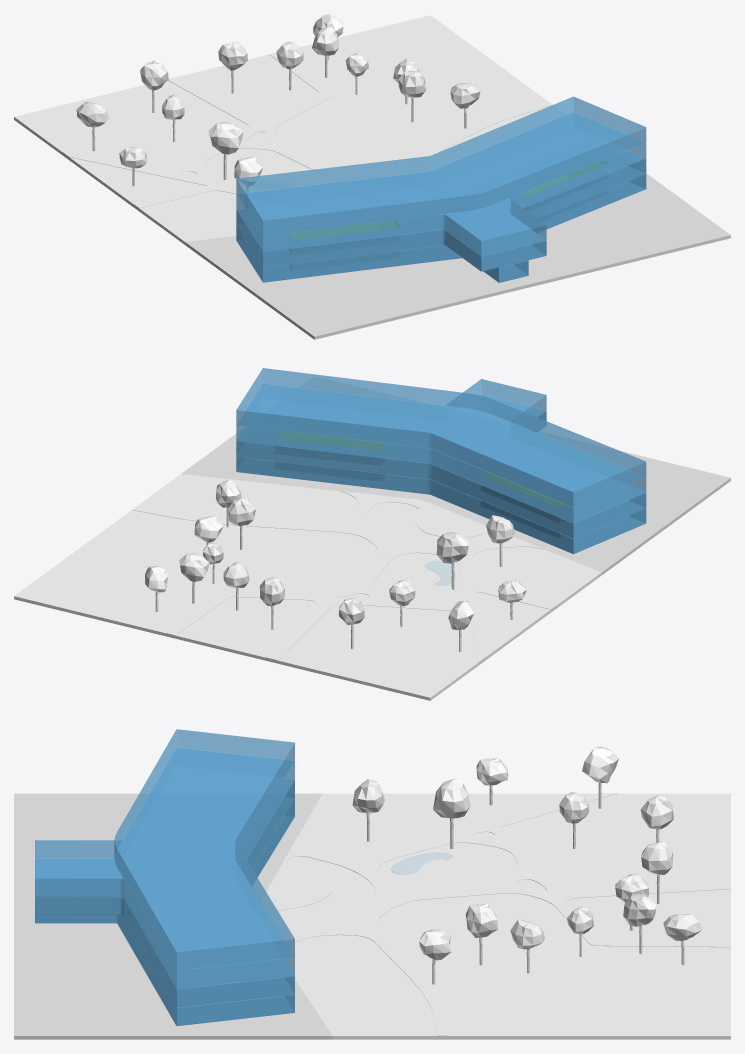
The model's file is campus.gltf.
3 views of the same model, one above another, from view 1: azimuth 30°, elevation 25°; view 2: azimuth 150°, elevation 25°; view 3: azimuth 270°, elevation 25° (orthographic). The views are drawn at different scales.
Visible parts, largest first — view 1: park, floor_2, floor_3, building_base, floor_1, paths_Retopo, floor_0, tree010, room2, tree012, tree007, tree005 (+7 smaller); view 2: park, floor_2, floor_3, building_base, floor_1, paths_Retopo, floor_0, tree010, room1, tree01, tree013, tree005 (+9 smaller); view 3: park, floor_2, floor_3, building_base, paths_Retopo, floor_1, floor_0, tree010, tree012, tree005, tree01, tree007 (+10 smaller).
Part boxes in pixels (<box>): park: <box>14,15,565,244</box>; floor_2: <box>236,112,646,255</box>; floor_3: <box>236,96,646,235</box>; building_base: <box>185,173,730,339</box>; floor_1: <box>236,151,646,271</box>; paths_Retopo: <box>62,52,552,208</box>; floor_0: <box>236,174,646,282</box>; tree010: <box>208,122,243,179</box>; room2: <box>288,220,397,239</box>; tree012: <box>76,101,109,151</box>; tree007: <box>218,42,247,93</box>; tree005: <box>398,70,426,122</box>; park: <box>14,474,601,700</box>; floor_2: <box>236,379,646,522</box>; floor_3: <box>236,368,646,507</box>; building_base: <box>181,377,730,575</box>; floor_1: <box>236,395,646,538</box>; paths_Retopo: <box>132,491,555,662</box>; floor_0: <box>236,456,646,554</box>; tree010: <box>436,532,468,589</box>; room1: <box>276,431,385,450</box>; tree01: <box>179,553,209,603</box>; tree013: <box>486,515,514,567</box>; tree005: <box>228,498,255,549</box>; park: <box>271,793,730,1039</box>; floor_2: <box>35,748,294,988</box>; floor_3: <box>114,729,294,970</box>; building_base: <box>14,793,332,1039</box>; paths_Retopo: <box>261,793,730,1035</box>; floor_1: <box>35,779,294,1007</box>; floor_0: <box>35,798,294,1025</box>; tree010: <box>433,778,470,848</box>; tree012: <box>582,746,618,808</box>; tree005: <box>465,903,497,965</box>; tree01: <box>623,894,656,953</box>; tree007: <box>641,841,672,903</box>.
Size of the model in its own units: 2.8 by 0.42 by 3.5.
Materials: 6 (2 with a texture image).
